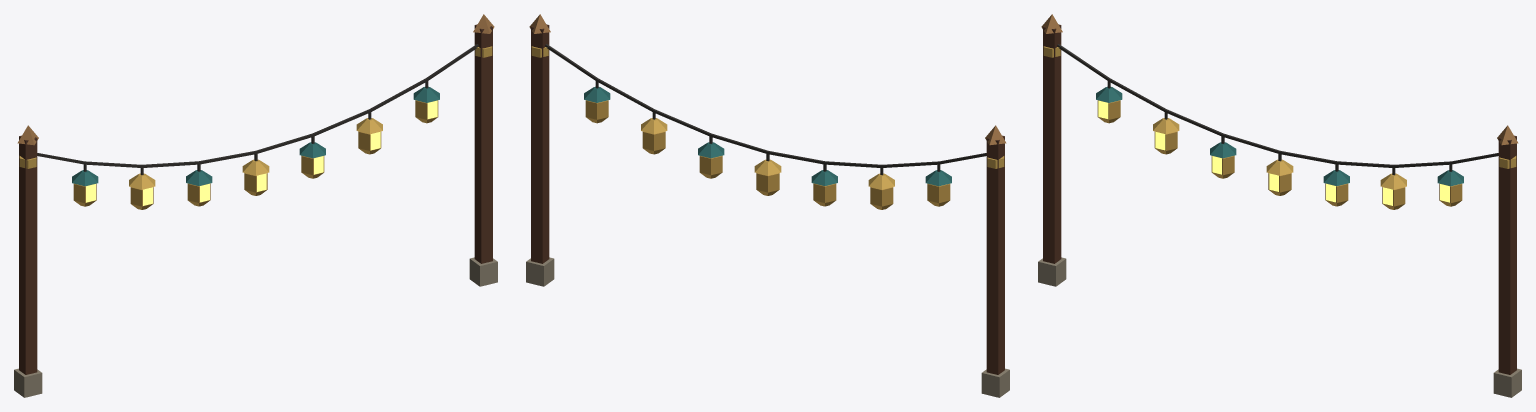
File: string-lights.glb
The picture shows the model from 3 angles, left to right: view 1: azimuth 30°, elevation 25°; view 2: azimuth 150°, elevation 25°; view 3: azimuth 330°, elevation 25°; orthographic projection.
Visible parts, largest first — view 1: string-lights; view 2: string-lights; view 3: string-lights.
Part boxes in pixels (bbox=[...]): string-lights: bbox=[14, 14, 497, 397]; string-lights: bbox=[526, 14, 1009, 397]; string-lights: bbox=[1038, 14, 1521, 397].
Bounding box in the file's own units: 5.78 × 3.09 × 0.2771.
